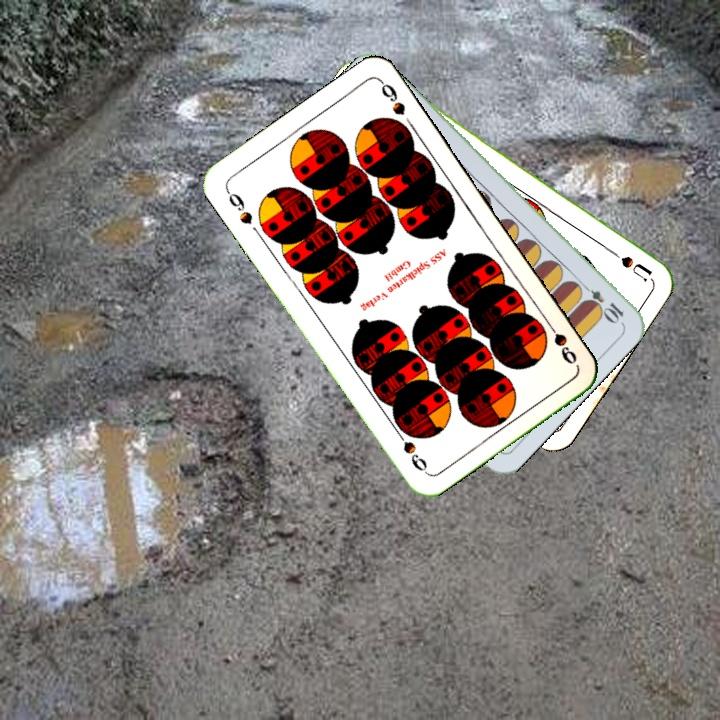E10: (575, 278, 627, 325)
S9: (537, 315, 580, 367), (221, 184, 256, 227)
SU: (600, 241, 654, 282)
